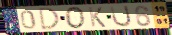0: (19, 9, 38, 30)
6: (134, 4, 152, 27)
D: (38, 7, 61, 31)
K: (87, 6, 107, 28)
O: (64, 6, 87, 30)
U: (109, 5, 133, 28)
